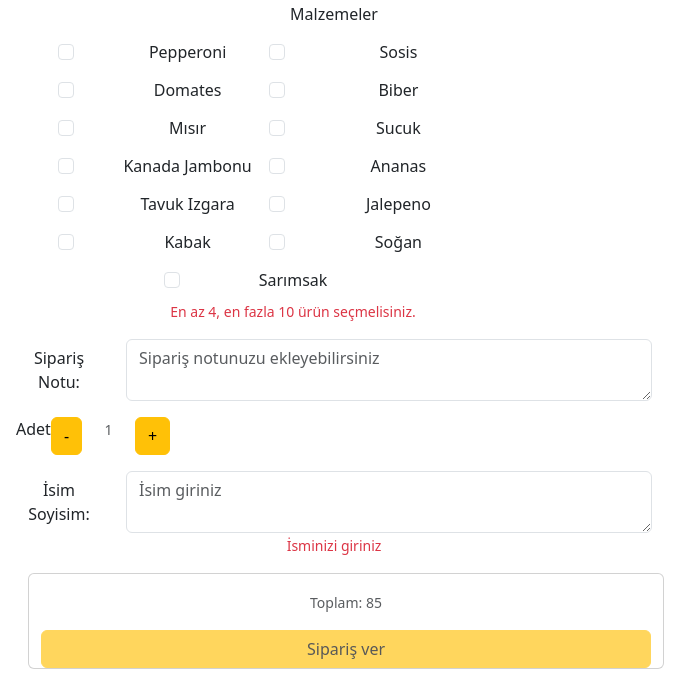
Test: Olumlu Senaryolar › Order Page › Plus Button increases the quantity
(page scrolled)
Step 1. Click the button named "plus" → click(153, 436), box [135,417,170,455]
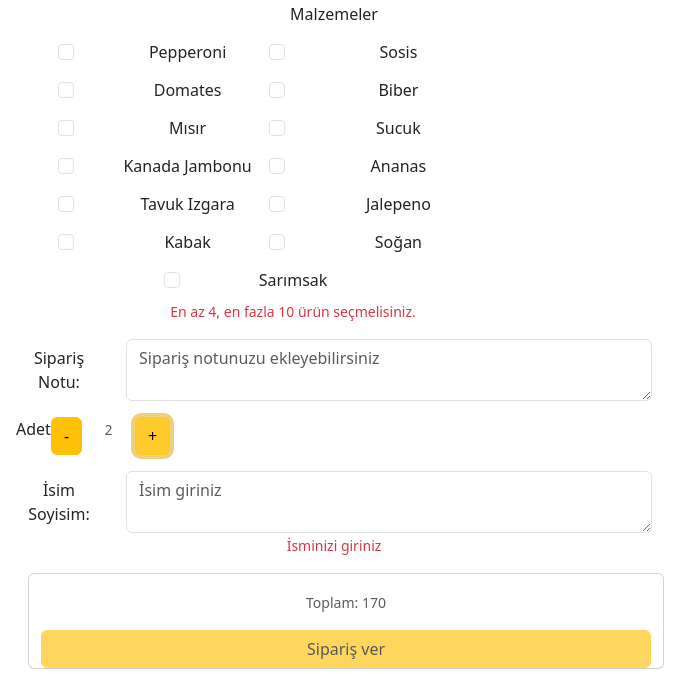
Now the text with class "form-text" reads "Toplam: 170", box [306,593,386,612]
